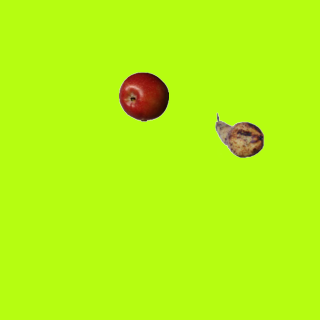Apple Braeburn: (118, 71, 168, 121)
Pear Abate: (214, 110, 264, 160)
